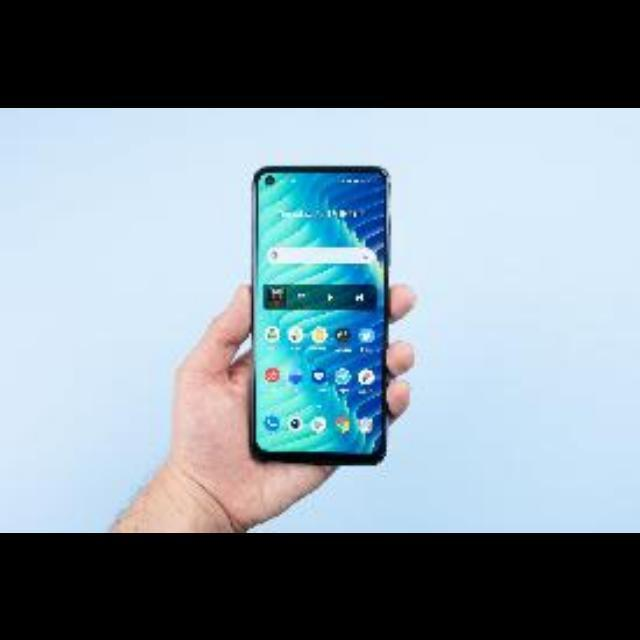PhoneUse: (250, 162, 388, 466)
